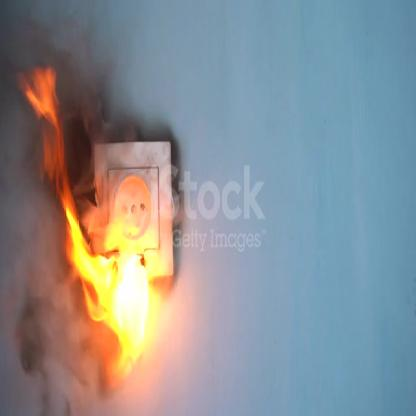fire: (26, 70, 162, 384)
smoke: (0, 0, 157, 416)
